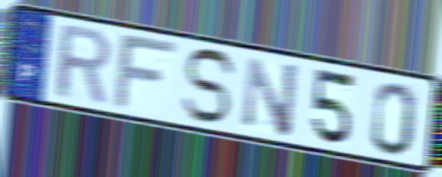0: (369, 80, 420, 157)
5: (310, 65, 356, 146)
F: (110, 33, 181, 112)
N: (242, 54, 301, 141)
R: (53, 21, 113, 108)
S: (179, 46, 238, 126)
